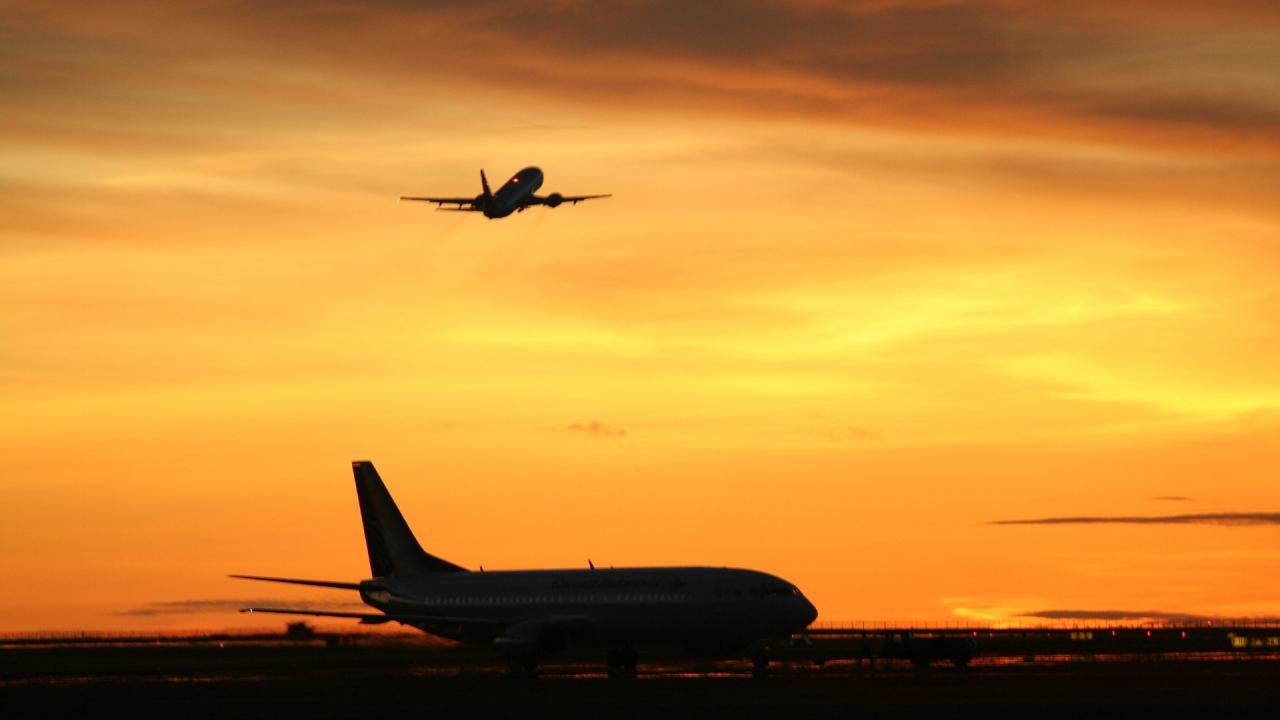Airplane: (221, 453, 830, 693), (392, 158, 622, 230)
